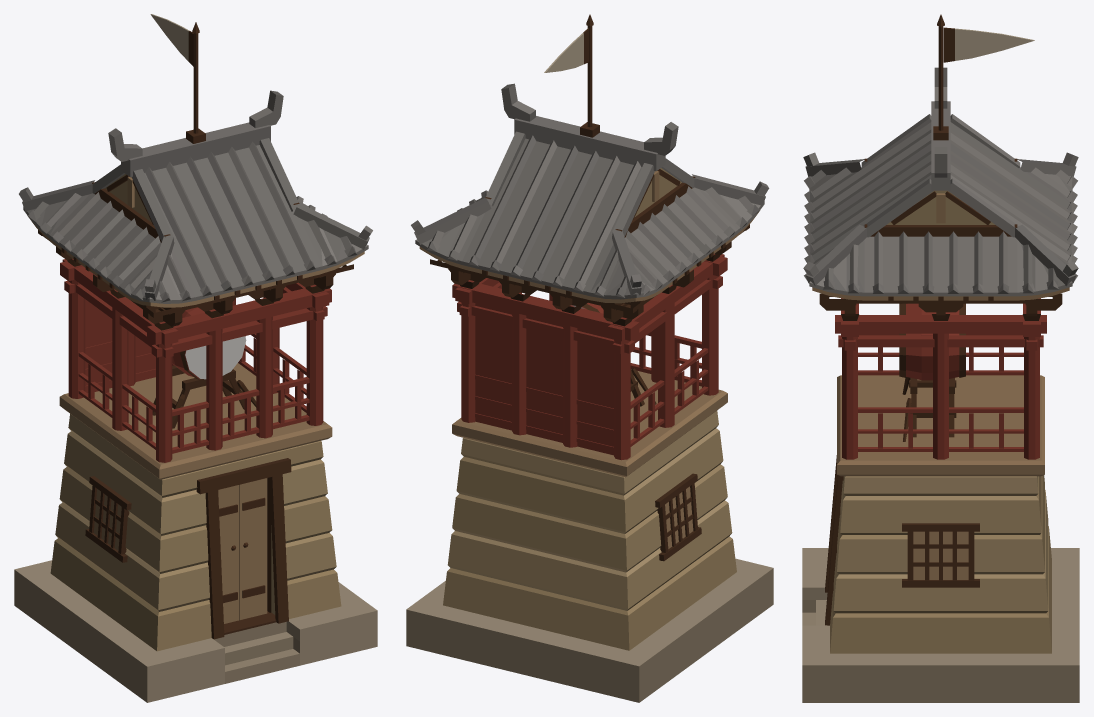
The model's file is market-drum-tower.glb.
3 renders of one model, left to right at view 1: azimuth 30°, elevation 25°; view 2: azimuth 150°, elevation 25°; view 3: azimuth 270°, elevation 25°, orthographic. The views are drawn at different scales.
Parts seen in each view (by area): view 1: tower, door-r, door-l, pennant; view 2: tower, pennant; view 3: tower, pennant.
Boxes of the visible parts, box(x1,y1,x2,y2) form: tower: box(14, 22, 377, 702); door-r: box(239, 478, 267, 620); door-l: box(218, 485, 239, 623); pennant: box(150, 14, 193, 66); tower: box(406, 14, 773, 702); pennant: box(544, 28, 589, 72); tower: box(802, 14, 1079, 702); pennant: box(943, 27, 1034, 62).
Size of the model in its own units: 4 by 10.02 by 4.
